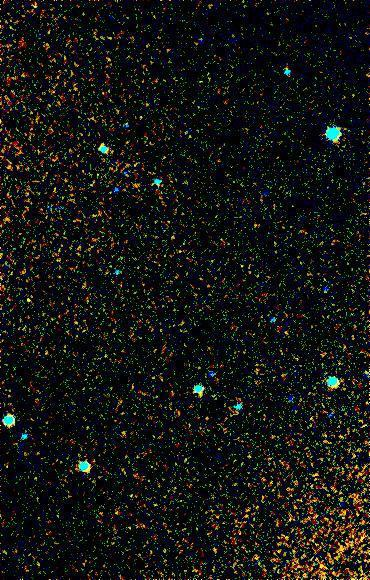star: (16, 284, 46, 314)
